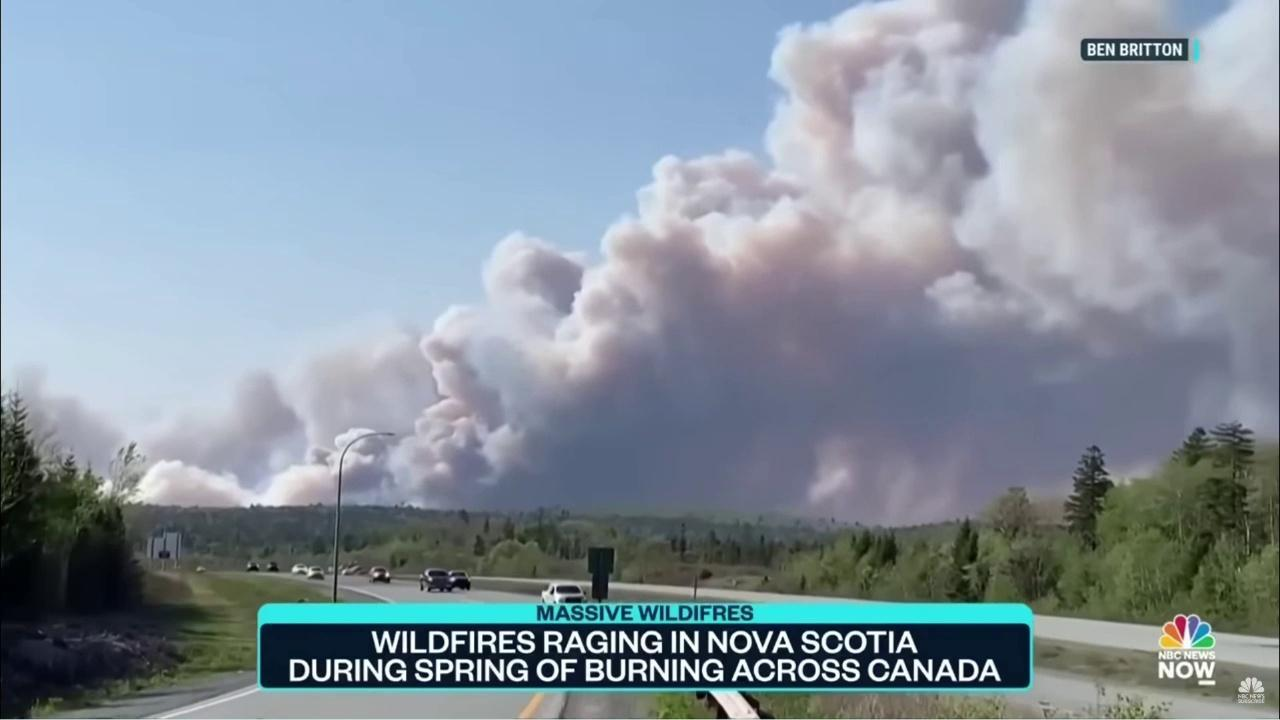smoke: (0, 0, 1280, 532)
